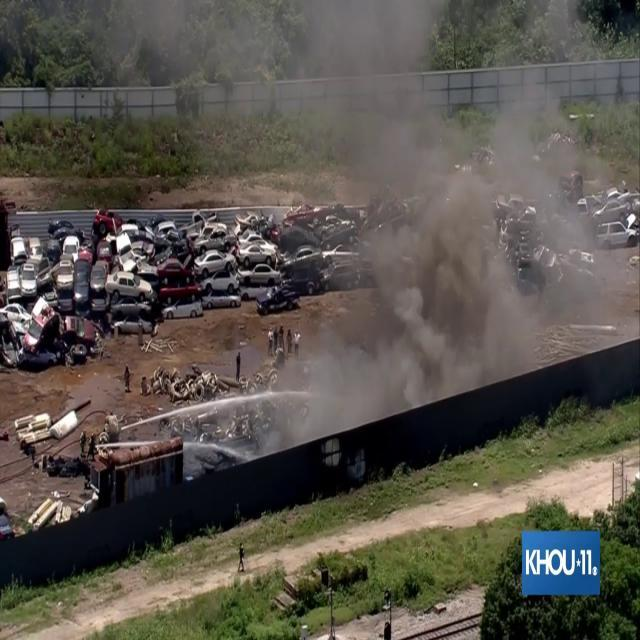Smoke: (297, 19, 611, 398)
